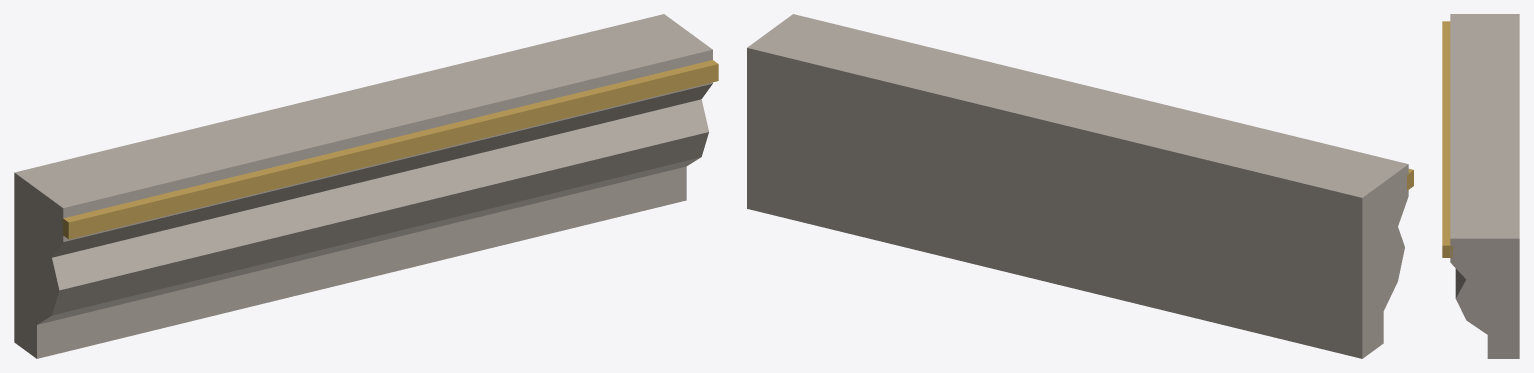
The model's file is facade_string_course.glb.
3 renders of one model, left to right at view 1: azimuth 30°, elevation 25°; view 2: azimuth 150°, elevation 25°; view 3: azimuth 270°, elevation 25°, orthographic. The views are drawn at different scales.
Parts seen in each view (by area): view 1: facade_string_course; view 2: facade_string_course; view 3: facade_string_course.
Boxes of the visible parts, x1,y1,x2,y2 form: facade_string_course: (14, 14, 718, 358); facade_string_course: (747, 14, 1413, 358); facade_string_course: (1442, 14, 1519, 358).
Size of what is drawn, in the model's own units: 2 by 0.5 by 0.29.
